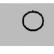no answer: (18, 8, 46, 33)
